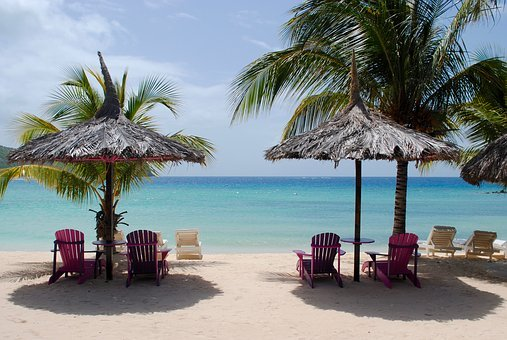beach: (5, 170, 507, 337)
tree: (341, 3, 496, 271)
